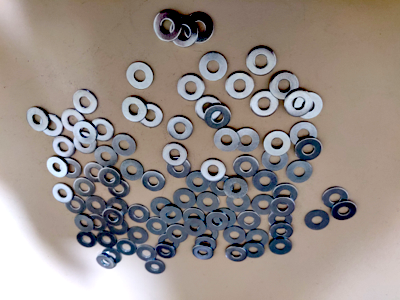circle: (184, 11, 214, 44), (154, 11, 183, 43), (170, 16, 199, 48), (247, 46, 277, 76), (199, 52, 228, 81), (177, 73, 206, 102), (225, 72, 255, 100), (126, 61, 154, 90), (270, 72, 299, 100), (295, 91, 323, 119), (250, 90, 279, 117), (204, 103, 233, 130), (195, 95, 223, 122), (263, 130, 291, 156), (137, 103, 164, 129), (285, 90, 311, 117), (235, 127, 261, 154), (290, 121, 318, 146), (295, 136, 323, 161), (167, 116, 195, 141), (121, 96, 147, 122), (286, 160, 314, 184), (199, 159, 227, 183), (321, 186, 350, 209), (39, 113, 64, 138), (214, 128, 240, 152), (91, 117, 115, 143), (262, 148, 289, 171), (73, 90, 98, 114), (185, 170, 210, 194), (61, 108, 85, 133), (112, 133, 137, 157), (94, 144, 119, 168), (252, 170, 278, 193), (120, 159, 144, 183), (73, 120, 97, 144), (73, 131, 97, 155), (52, 135, 76, 159), (163, 143, 188, 166), (141, 170, 166, 193), (234, 155, 259, 178), (331, 200, 357, 222), (237, 210, 263, 232), (107, 177, 131, 200), (273, 183, 297, 206), (27, 107, 49, 132), (305, 210, 331, 231), (167, 157, 192, 178), (226, 191, 251, 212), (270, 198, 296, 218), (268, 237, 294, 257), (98, 166, 121, 188), (252, 194, 275, 216), (224, 178, 248, 199), (268, 209, 293, 229), (206, 210, 228, 232), (85, 195, 107, 217), (106, 197, 129, 218), (197, 192, 220, 213), (73, 178, 96, 199), (172, 189, 196, 209), (269, 222, 294, 241), (52, 183, 74, 204), (73, 213, 95, 234), (84, 162, 106, 183), (47, 156, 68, 178), (60, 158, 82, 179), (64, 195, 87, 215), (95, 229, 118, 249), (183, 218, 206, 237), (160, 205, 183, 224), (128, 205, 151, 224), (150, 198, 173, 217), (223, 226, 246, 245), (246, 229, 269, 248), (242, 241, 266, 259), (127, 226, 149, 245), (166, 224, 188, 243), (146, 217, 168, 236), (225, 245, 248, 263), (103, 208, 124, 227), (101, 248, 123, 266), (115, 239, 137, 257), (195, 235, 217, 253), (158, 233, 180, 251), (76, 231, 97, 249), (145, 259, 167, 275), (192, 245, 214, 261), (155, 243, 177, 259), (137, 245, 157, 262), (96, 254, 117, 270)
